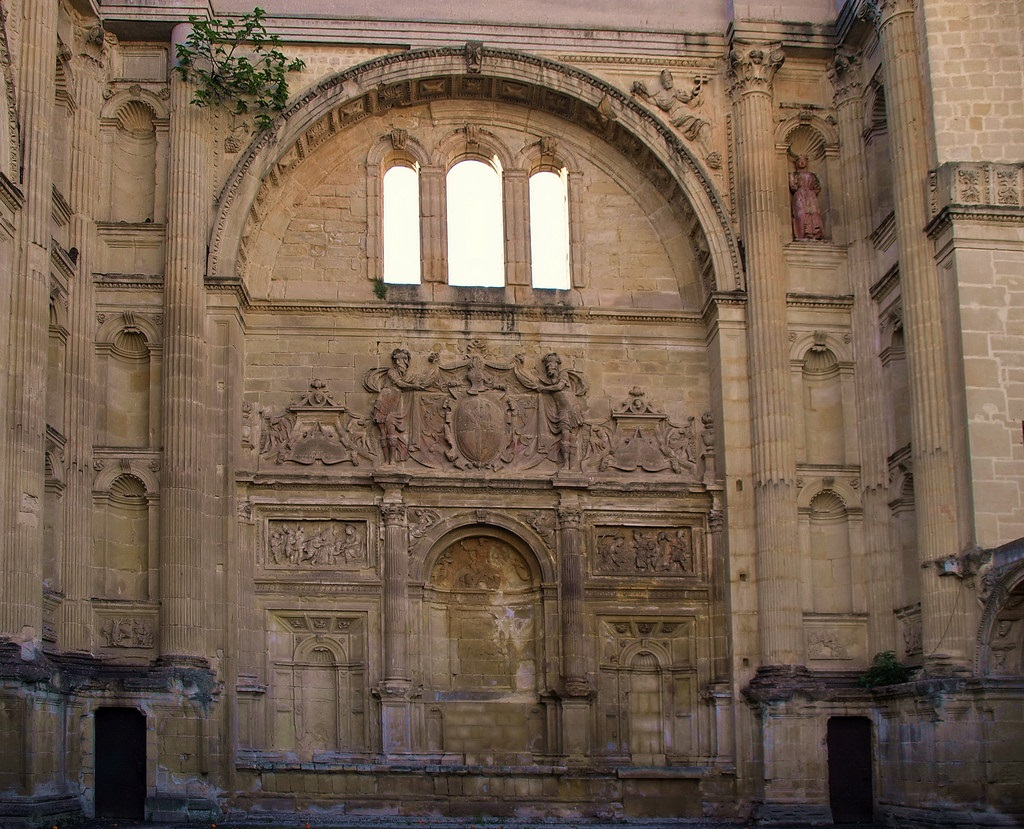arco-medio-punto: (219, 55, 733, 352)
serliana: (250, 483, 716, 774)
